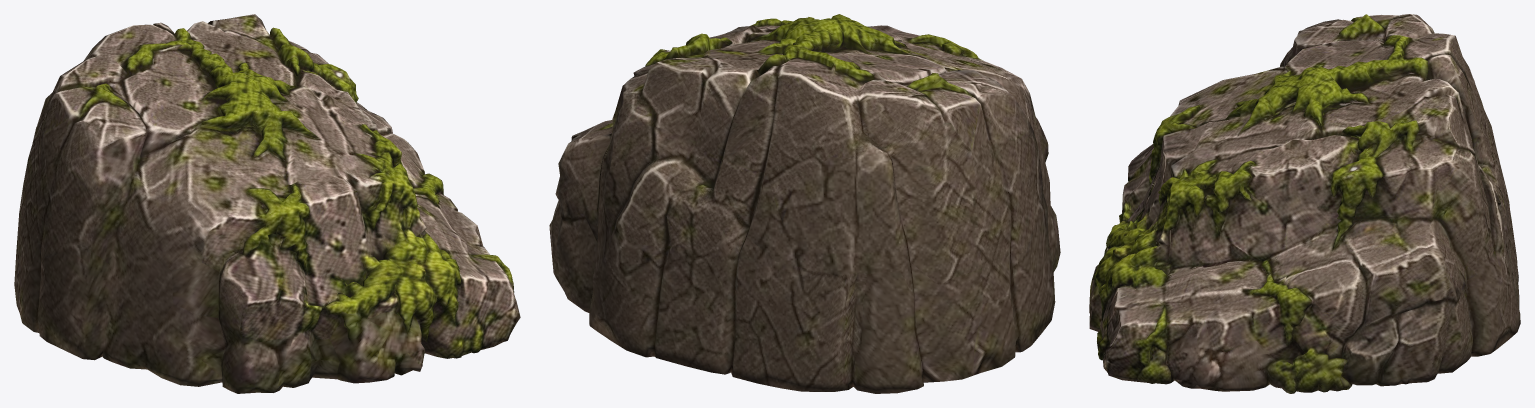
The model's file is glaz.glb.
3 views of the same model, side by side, from view 1: azimuth 30°, elevation 25°; view 2: azimuth 150°, elevation 25°; view 3: azimuth 270°, elevation 25° (orthographic). The views are drawn at different scales.
Parts seen in each view (by area): view 1: Mesh_0; view 2: Mesh_0; view 3: Mesh_0.
Part boxes in pixels (box(x1,y1,x2,y2)): Mesh_0: box(14, 14, 520, 393); Mesh_0: box(549, 14, 1060, 393); Mesh_0: box(1089, 14, 1520, 393).
Size of the model in its own units: 0.9575 by 0.5669 by 0.9302.
Materials: 1 (1 with a texture image).
